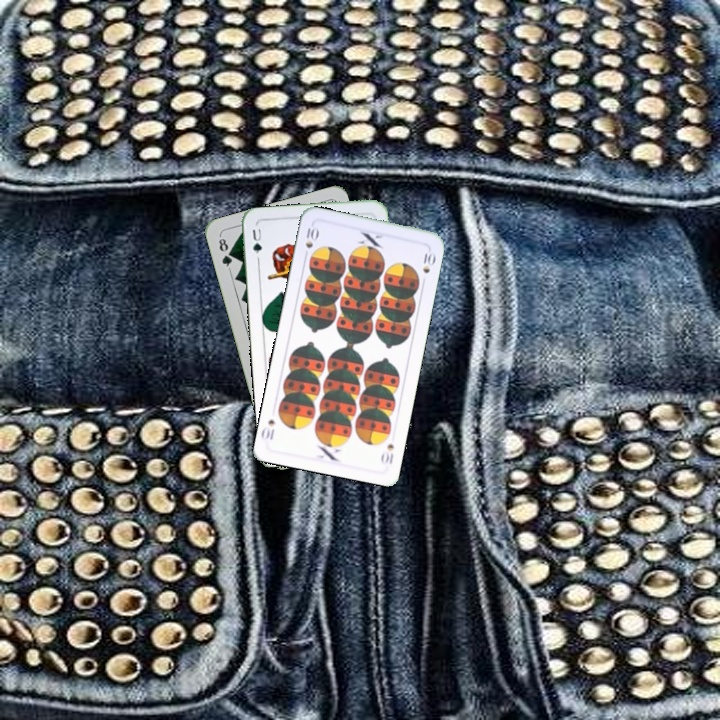G8: (214, 232, 235, 272)
GU: (248, 223, 265, 263)
S10: (300, 221, 321, 261), (377, 439, 396, 467)
